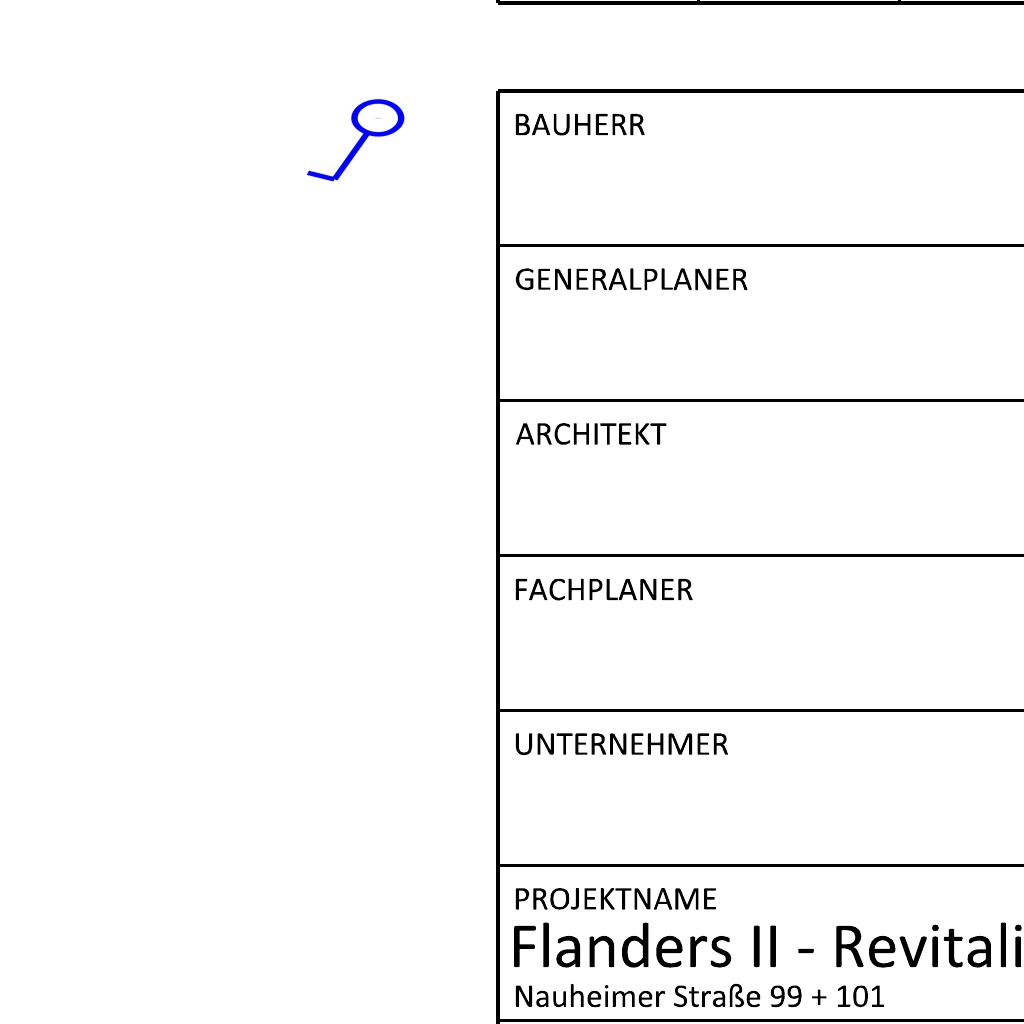Ausschalter: (304, 96, 416, 192)
